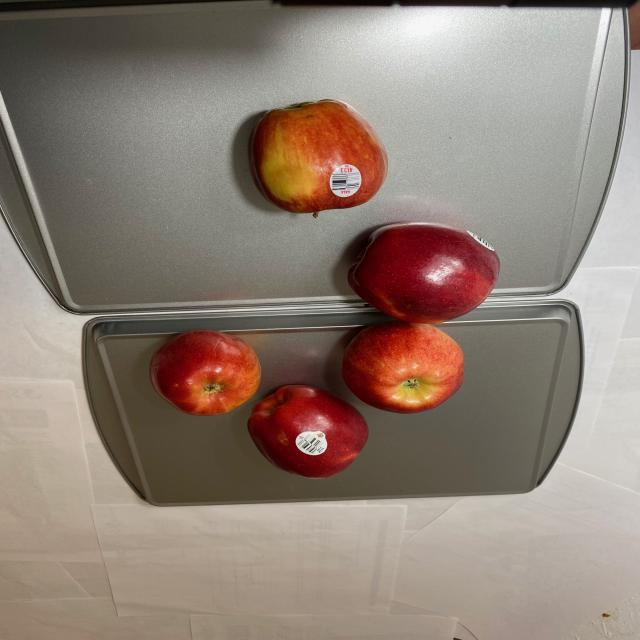Apple: (148, 223, 505, 479), (240, 95, 388, 219)
